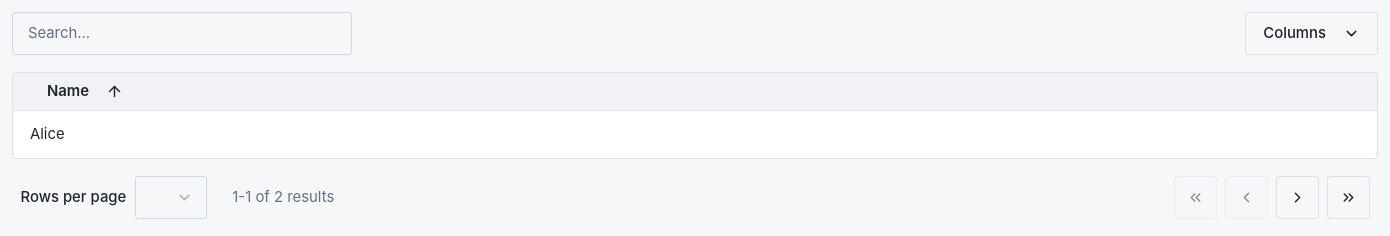
it: ResourceListing state › pages through the rows and reports the range
Expected: the text "1-1 of 2 results" is shown, [232,187,334,208]
Expected: the text "Alice" is shown, [13,111,1377,158]
What coordinates should you click on to do the following:
click the 3rd button named "go to next page"
I would click on:
 (1297, 197)
Its box is [1276,176,1318,218].
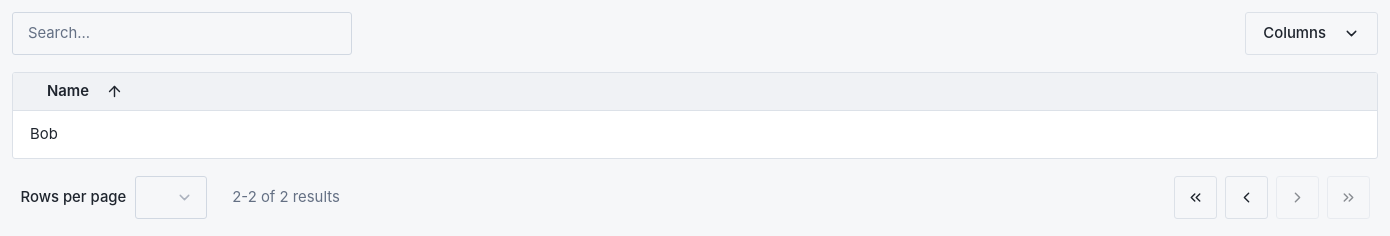
Now the text "Bob" is shown, box [13,111,1377,158]
Now the text "2-2 of 2 results" is shown, box [232,187,340,208]
